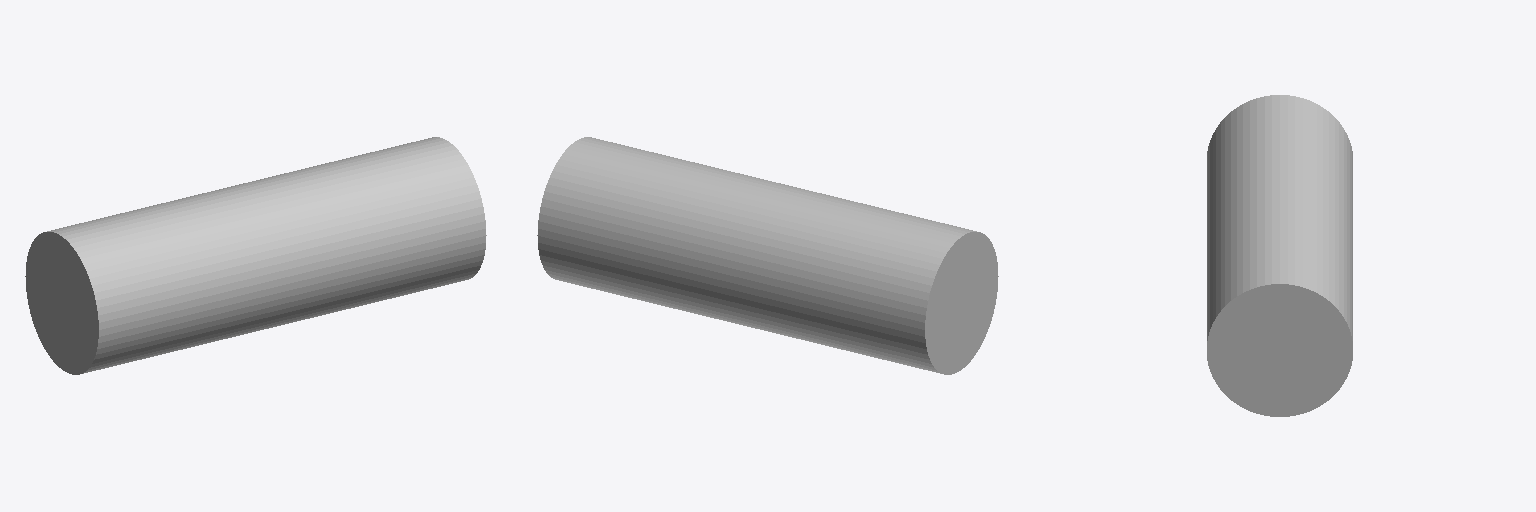
The model's file is Zagotovka.obj.
The picture shows the model from 3 angles: view 1: azimuth 30°, elevation 25°; view 2: azimuth 150°, elevation 25°; view 3: azimuth 270°, elevation 25°; orthographic projection.
Parts seen in each view (by area): view 1: pCylinder2; view 2: pCylinder2; view 3: pCylinder2.
Part boxes in pixels (bbox=[...]): pCylinder2: bbox=[25, 137, 486, 374]; pCylinder2: bbox=[537, 137, 998, 374]; pCylinder2: bbox=[1207, 95, 1352, 416].
Size of the model in its own units: 0.2663 by 0.0874 by 0.0874.